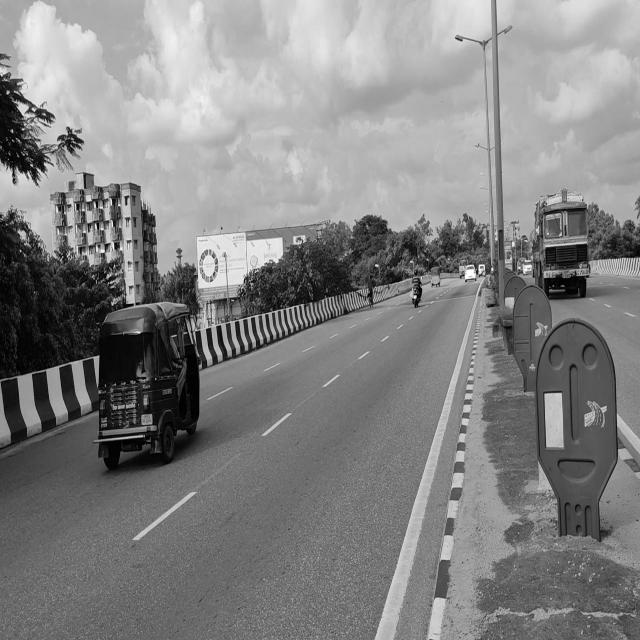truck: (531, 186, 595, 298)
